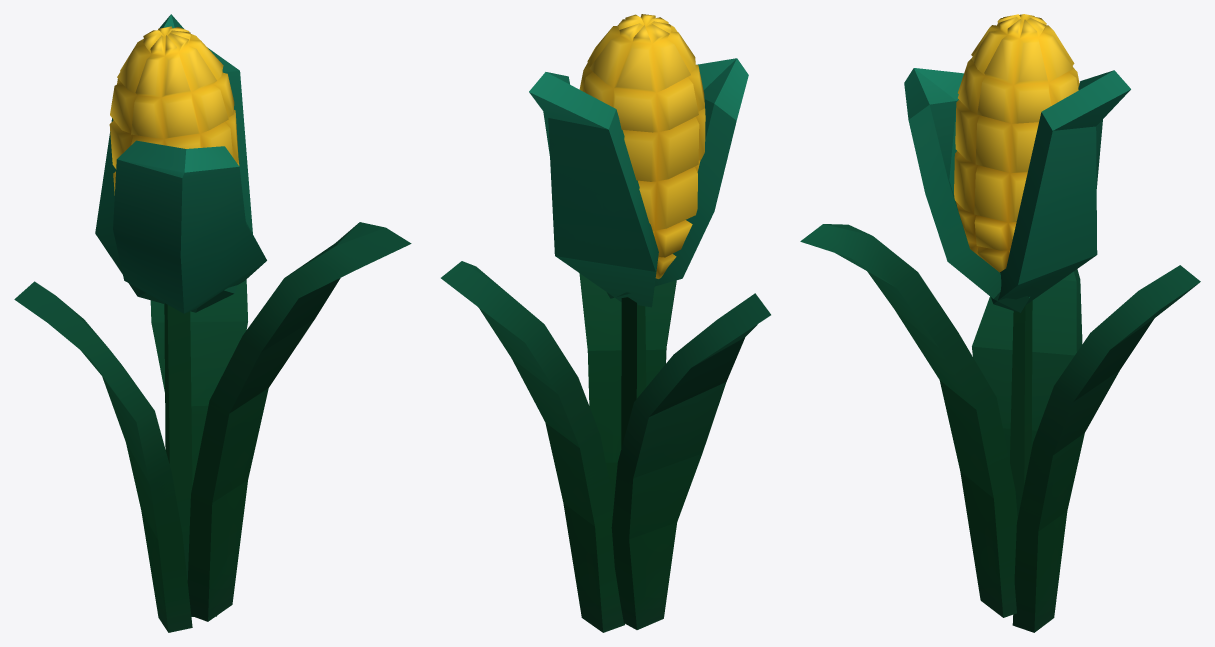
File: CornPlant01.fbx
The picture shows the model from 3 angles, left to right: view 1: azimuth 30°, elevation 25°; view 2: azimuth 150°, elevation 25°; view 3: azimuth 270°, elevation 25°; orthographic projection. The views are drawn at different scales.
Parts seen in each view (by area): view 1: CornPlant01, Corn; view 2: CornPlant01, Corn; view 3: CornPlant01, Corn.
Boxes of the visible parts, x1,y1,x2,y2 form: CornPlant01: (14, 14, 411, 632); Corn: (109, 26, 239, 195); CornPlant01: (441, 58, 770, 632); Corn: (579, 14, 705, 278); CornPlant01: (800, 68, 1200, 632); Corn: (954, 14, 1079, 272).
Bounding box in the file's own units: 13.49 × 28.35 × 17.47.
